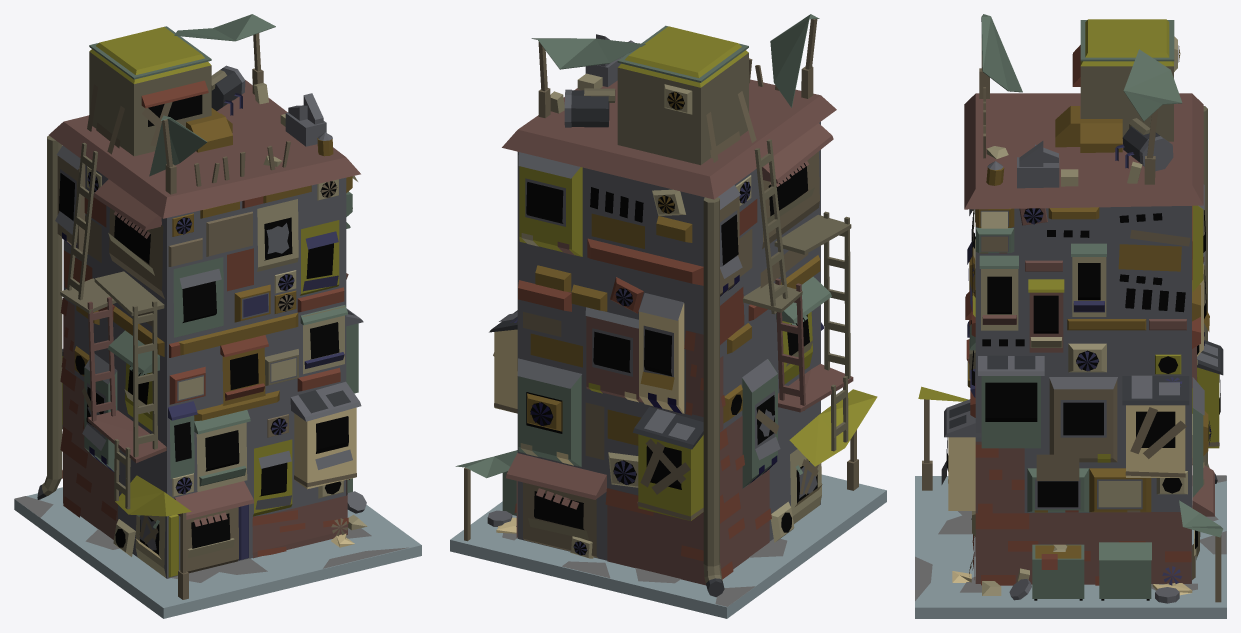
File: Slums1.fbx
The picture shows the model from 3 angles, left to right: view 1: azimuth 30°, elevation 25°; view 2: azimuth 150°, elevation 25°; view 3: azimuth 270°, elevation 25°; orthographic projection. The views are drawn at different scales.
Parts seen in each view (by area): view 1: Cube.506, Road.019; view 2: Cube.506, Road.019; view 3: Cube.506, Road.019.
Part boxes in pixels (x1,y1,x2,y2): Cube.506: (14, 14, 408, 599); Road.019: (14, 487, 421, 618); Cube.506: (455, 14, 877, 606); Road.019: (450, 474, 886, 618); Cube.506: (915, 14, 1226, 603); Road.019: (915, 476, 1226, 618).
Bounding box in the file's own units: 202 × 353 × 200.
